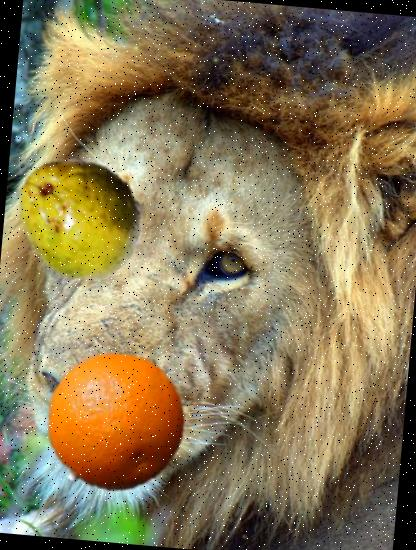Guava: (9, 146, 154, 290)
Orange: (37, 346, 192, 501)
